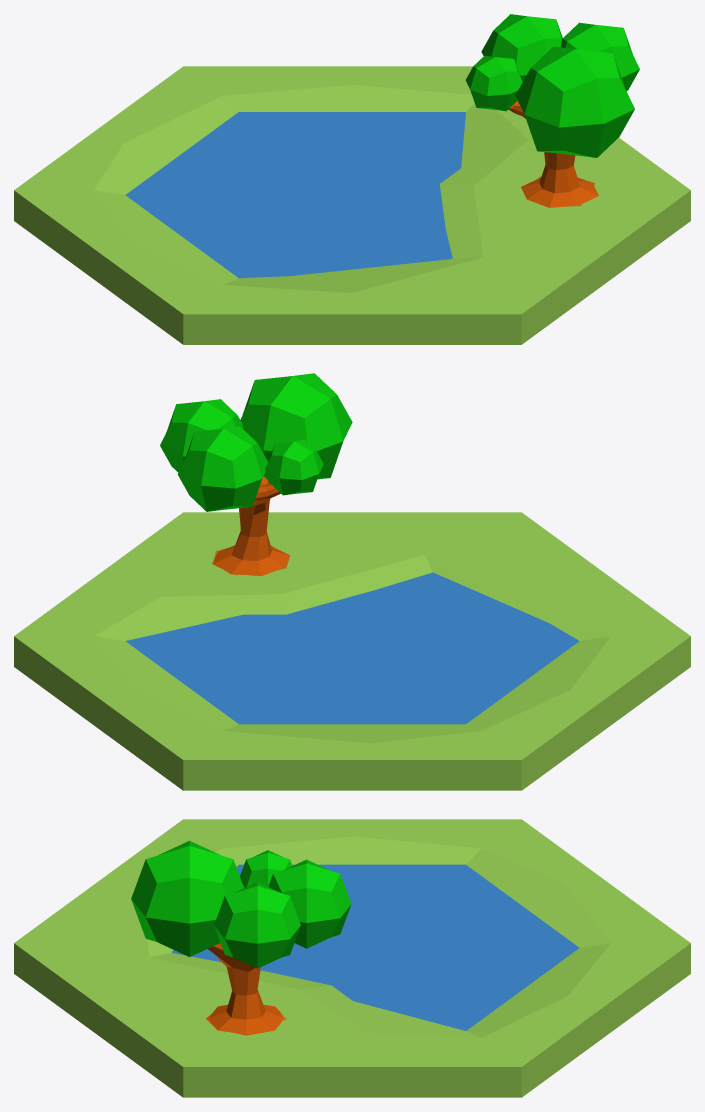
The model's file is HexaLake.fbx.
The picture shows the model from 3 angles, top to bottom: view 1: azimuth 30°, elevation 25°; view 2: azimuth 150°, elevation 25°; view 3: azimuth 270°, elevation 25°; orthographic projection.
Parts seen in each view (by area): view 1: Cylinder, Cube.001; view 2: Cylinder, Cube.001; view 3: Cylinder, Cube.001.
Part boxes in pixels (<box>): Cylinder: <box>14,66,690,344</box>; Cube.001: <box>465,14,639,207</box>; Cylinder: <box>14,512,690,790</box>; Cube.001: <box>160,373,352,576</box>; Cylinder: <box>14,819,690,1097</box>; Cube.001: <box>131,840,351,1035</box>.
Size of the model in its own units: 173 by 64.16 by 200.
